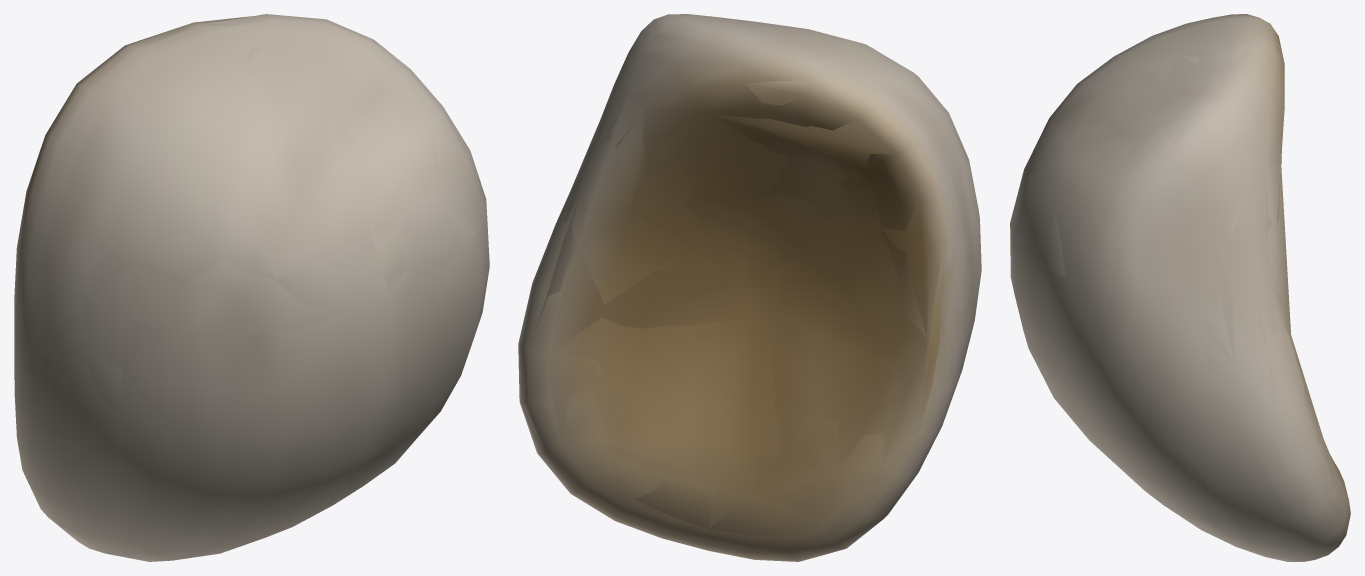
Rendered from L Patella.fbx.
3 views of the same model, side by side, from view 1: azimuth 30°, elevation 25°; view 2: azimuth 150°, elevation 25°; view 3: azimuth 270°, elevation 25° (orthographic). The views are drawn at different scales.
Visible parts, largest first — view 1: L Patella, L Patella low; view 2: L Patella, L Patella low; view 3: L Patella, L Patella low.
Boxes of the visible parts, left/top/right/bottom form: L Patella: left=14, top=14, right=489, bottom=561; L Patella low: left=27, top=20, right=489, bottom=560; L Patella: left=518, top=14, right=981, bottom=561; L Patella low: left=522, top=17, right=981, bottom=553; L Patella: left=1010, top=14, right=1350, bottom=561; L Patella low: left=1010, top=18, right=1350, bottom=535.
Size of the model in its own units: 2.23 by 2.61 by 1.67.
